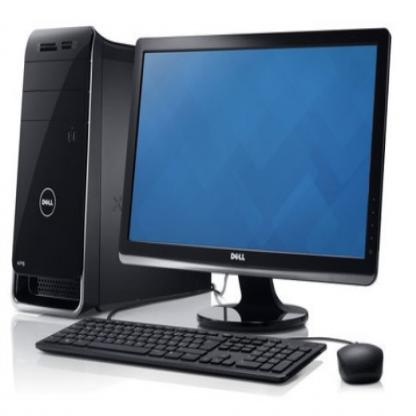DESKTOP: (5, 10, 411, 400)
